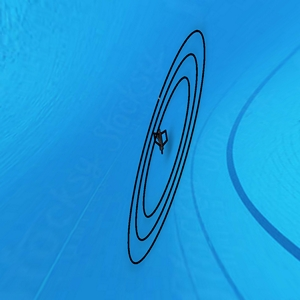circle: (127, 28, 207, 268)
submarine: (152, 129, 169, 153)
